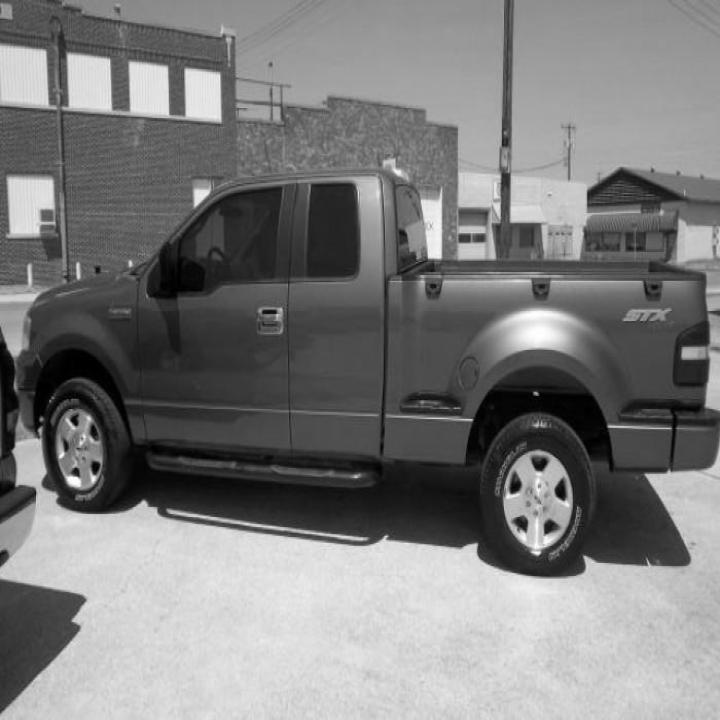car: (13, 161, 718, 575)
